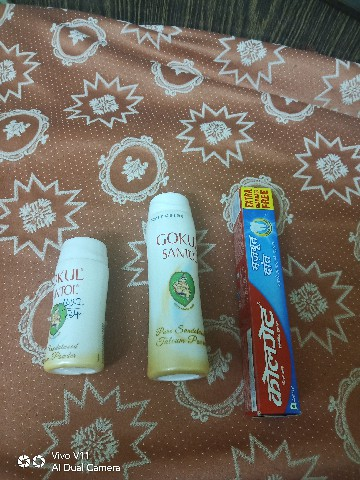colgatetoothpaste big: (231, 180, 318, 446)
gokulsantol big: (136, 175, 226, 399)
gokulsantol small: (41, 234, 112, 384)
